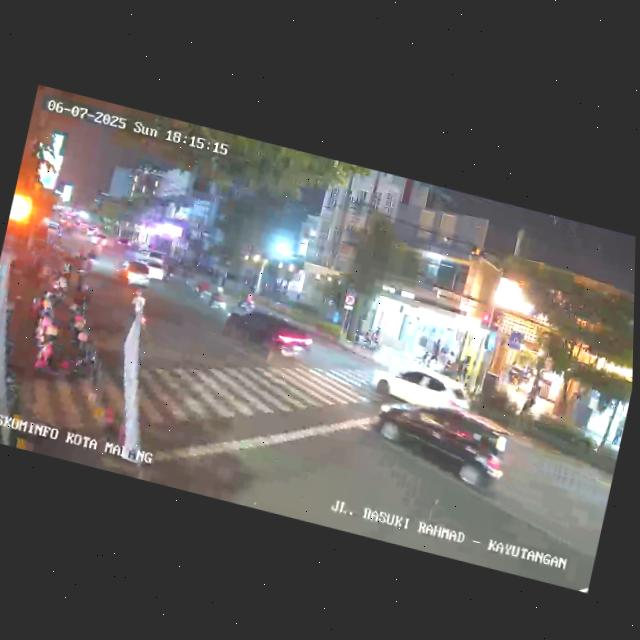car: (361, 384, 516, 501), (218, 298, 319, 369), (367, 357, 477, 419), (117, 254, 153, 287), (135, 255, 170, 284)
motorcycle: (201, 279, 232, 317), (233, 287, 258, 316)
person: (125, 286, 151, 331), (72, 264, 91, 297), (523, 382, 540, 416), (611, 414, 626, 449), (458, 355, 472, 386), (442, 349, 456, 376), (428, 338, 441, 366), (417, 343, 432, 367)
